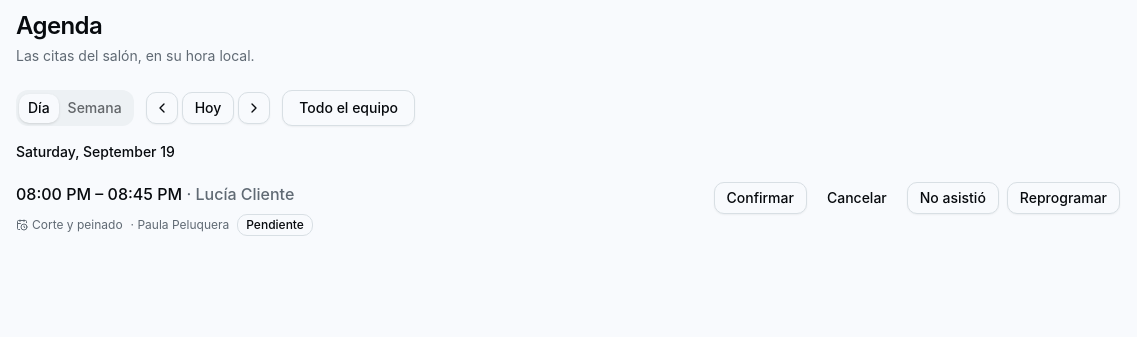
Test case: agenda del panel › muestra el conflicto de versión tal como lo explica el servidor
This screenshot has width=1137, height=337.
Expected: the text "· Lucía Cliente" is shown, [182, 184, 294, 204]
Click the button "Confirmar". click: (760, 198)
box: [714, 182, 807, 214]
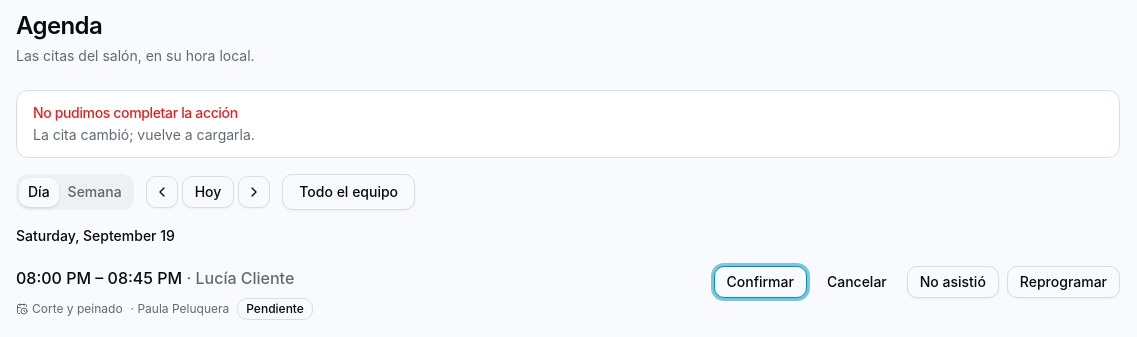
Result: the text "La cita cambió; vuelve a cargarla." is shown at [33, 126, 255, 143]
